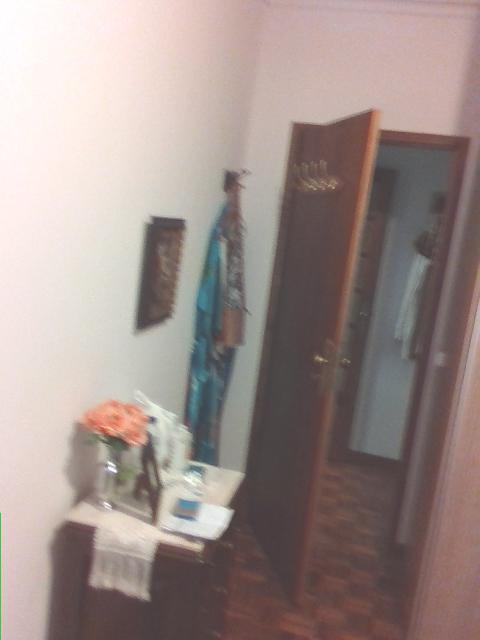semi_door: (247, 108, 469, 604)
